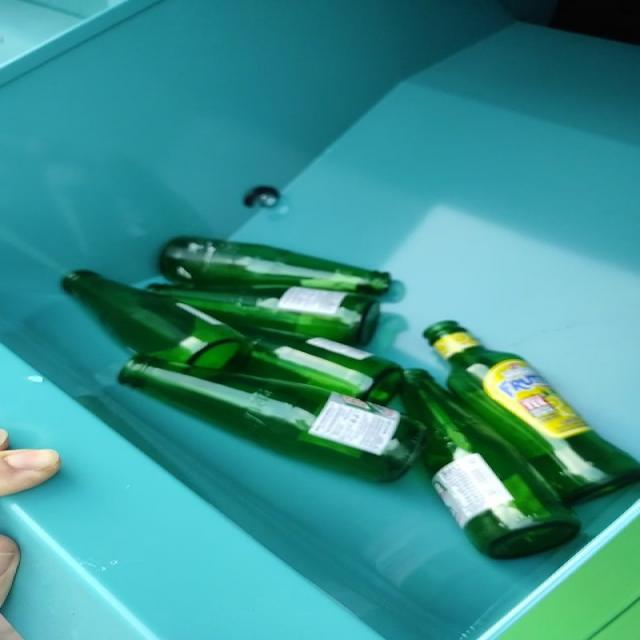glass: (64, 237, 640, 559)
